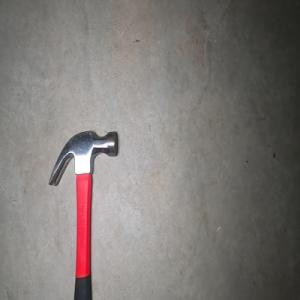Hammer: (47, 129, 118, 300)
